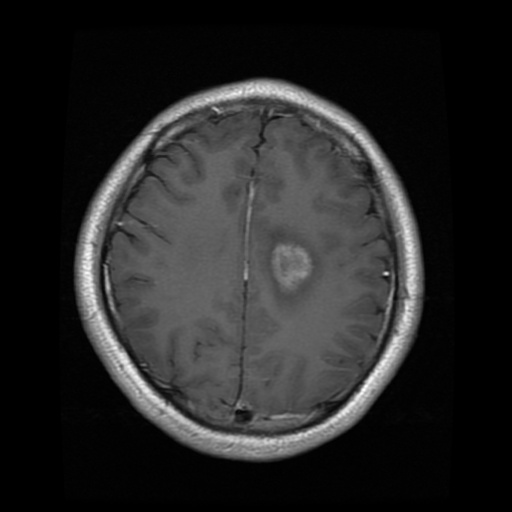glioma: (263, 226, 320, 305)
